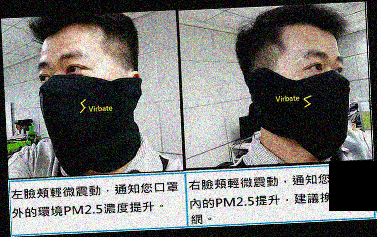with_mask: (38, 45, 136, 161), (275, 46, 348, 150)
